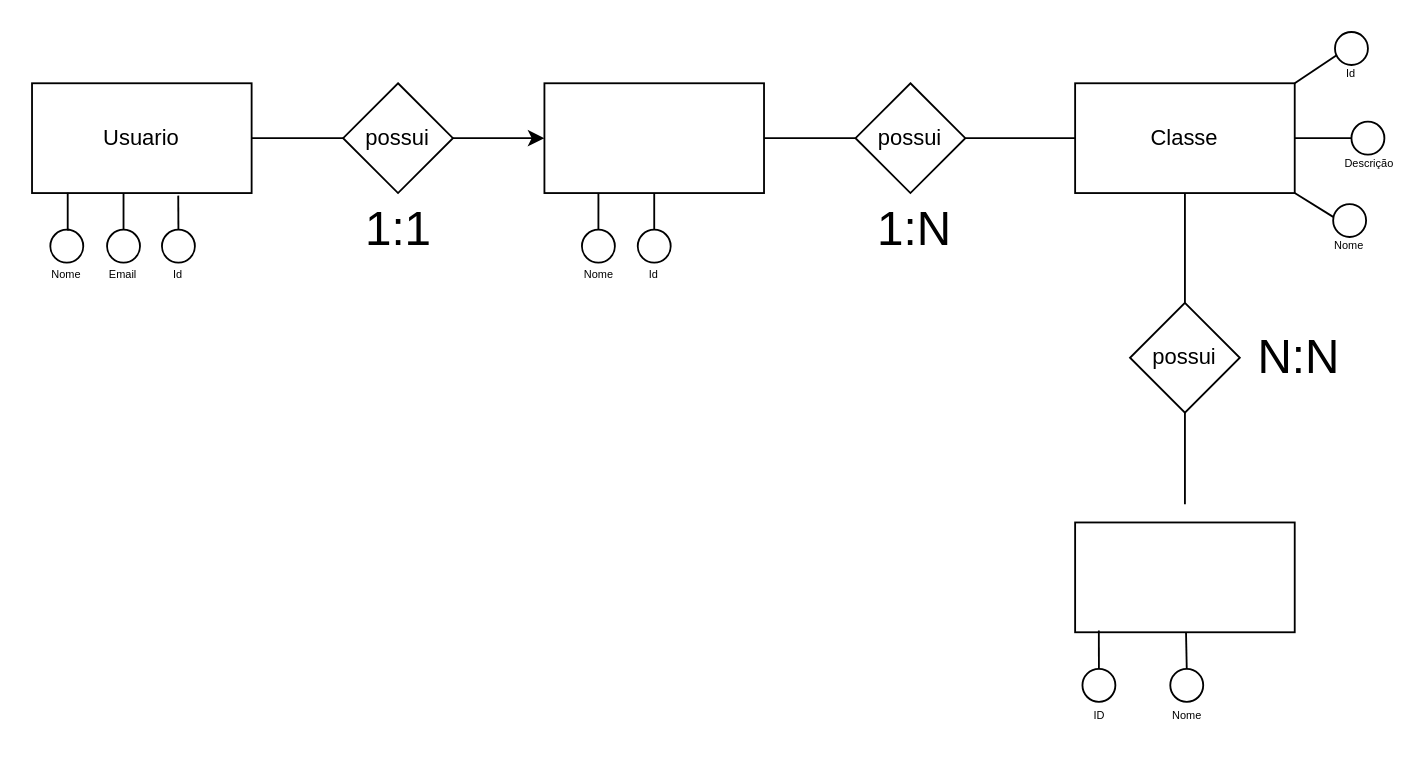
Some shapes in this 1426 by 758 pixel diagram are drawn without their labels. The centre of each missing label's shape, as x and y in pixels:
"Habilidade" belongs at point 1184,576.
"Personagem" belongs at point 653,137.
